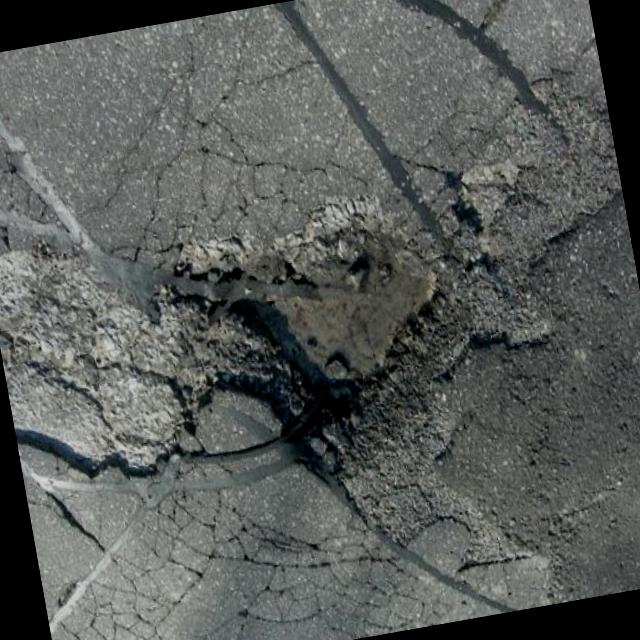pothole: (180, 187, 485, 473)
